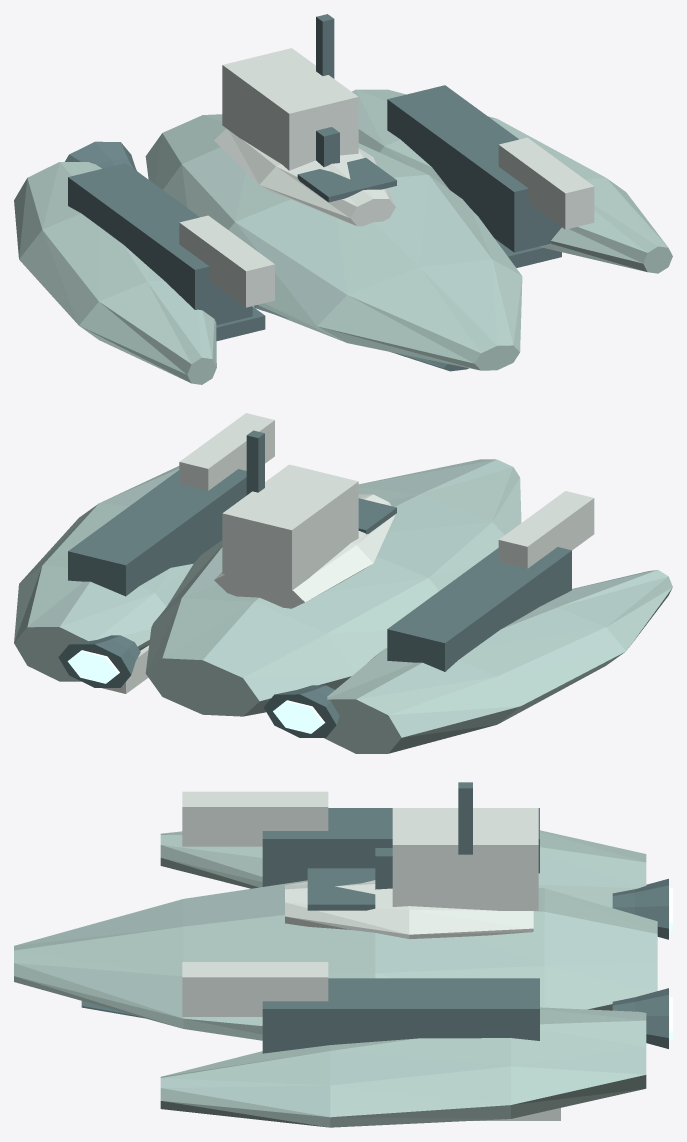
3 renders of one model, top to bottom at view 1: azimuth 30°, elevation 25°; view 2: azimuth 150°, elevation 25°; view 3: azimuth 270°, elevation 25°, orthographic. The views are drawn at different scales.
Bounding box in the file's own units: 18.92 × 8.22 × 18.07.
